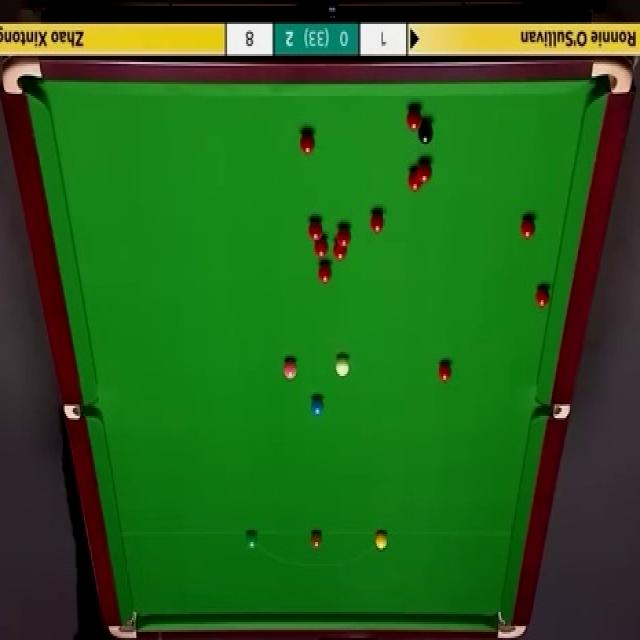black-ball: (417, 121, 432, 145)
blue-ball: (310, 394, 324, 416)
brown-ball: (310, 531, 323, 550)
green-ball: (246, 531, 259, 550)
pink-ball: (282, 356, 298, 378)
red-ball: (521, 216, 538, 242), (316, 260, 332, 286), (416, 160, 432, 184), (309, 219, 323, 244), (407, 108, 422, 131), (300, 129, 313, 155), (536, 285, 550, 309), (371, 212, 385, 236), (408, 169, 422, 192), (335, 225, 350, 246), (333, 241, 348, 262), (314, 237, 328, 259), (438, 362, 452, 380)
white-ball: (335, 354, 350, 378)
yellow-ball: (375, 531, 388, 550)
